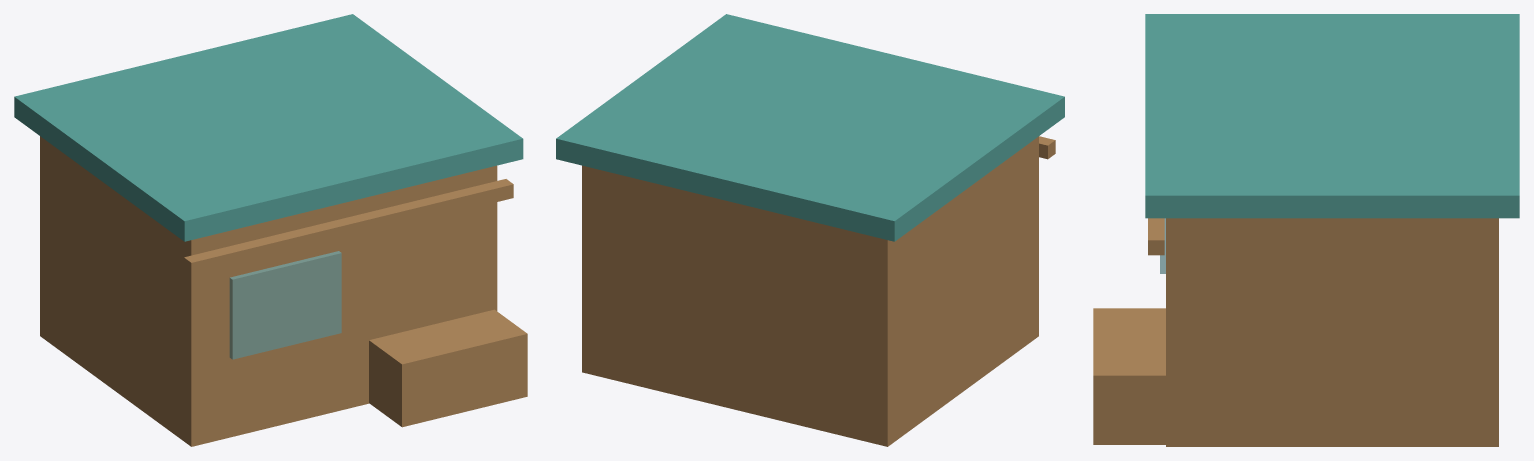
File: tailor.source.glb
3 renders of one model, left to right at view 1: azimuth 30°, elevation 25°; view 2: azimuth 150°, elevation 25°; view 3: azimuth 270°, elevation 25°, orthographic. The views are drawn at different scales.
Parts seen in each view (by area): view 1: tailor-shop-mesh, tailor-awning-roof-mesh, tailor-cutting-table-mesh, tailor-display-window-mesh, tailor-storefront-beam-mesh; view 2: tailor-shop-mesh, tailor-awning-roof-mesh; view 3: tailor-awning-roof-mesh, tailor-shop-mesh, tailor-cutting-table-mesh, tailor-storefront-beam-mesh.
Part boxes in pixels (<box>): tailor-shop-mesh: <box>40,136,497,446</box>; tailor-awning-roof-mesh: <box>14,14,523,241</box>; tailor-cutting-table-mesh: <box>369,309,527,427</box>; tailor-display-window-mesh: <box>229,251,341,359</box>; tailor-storefront-beam-mesh: <box>184,179,513,276</box>; tailor-shop-mesh: <box>582,136,1038,446</box>; tailor-awning-roof-mesh: <box>556,14,1064,241</box>; tailor-awning-roof-mesh: <box>1145,14,1519,218</box>; tailor-shop-mesh: <box>1166,218,1498,446</box>; tailor-cutting-table-mesh: <box>1093,308,1165,444</box>; tailor-storefront-beam-mesh: <box>1148,218,1164,255</box>.
Bounding box in the file's own units: 3.1 × 2.07 × 3.08.
